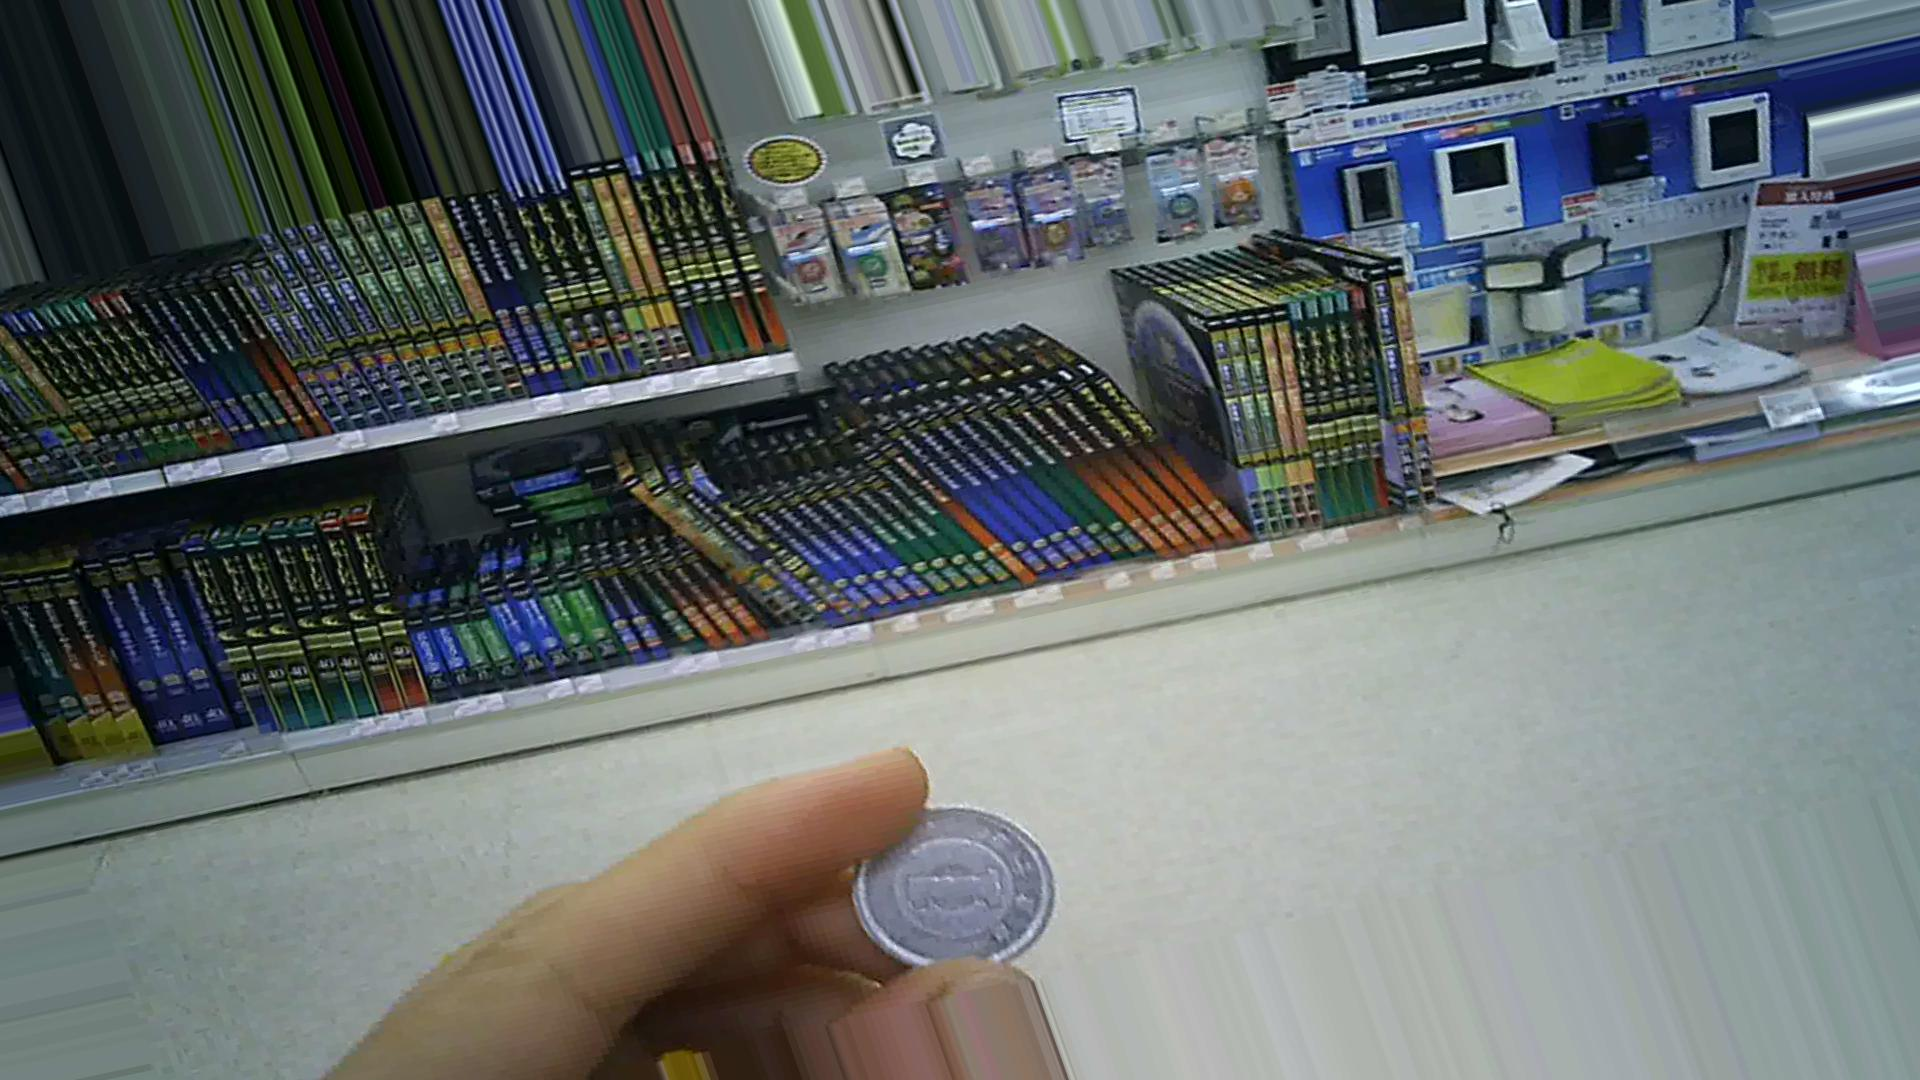1 Yen: (855, 794, 1060, 971)
